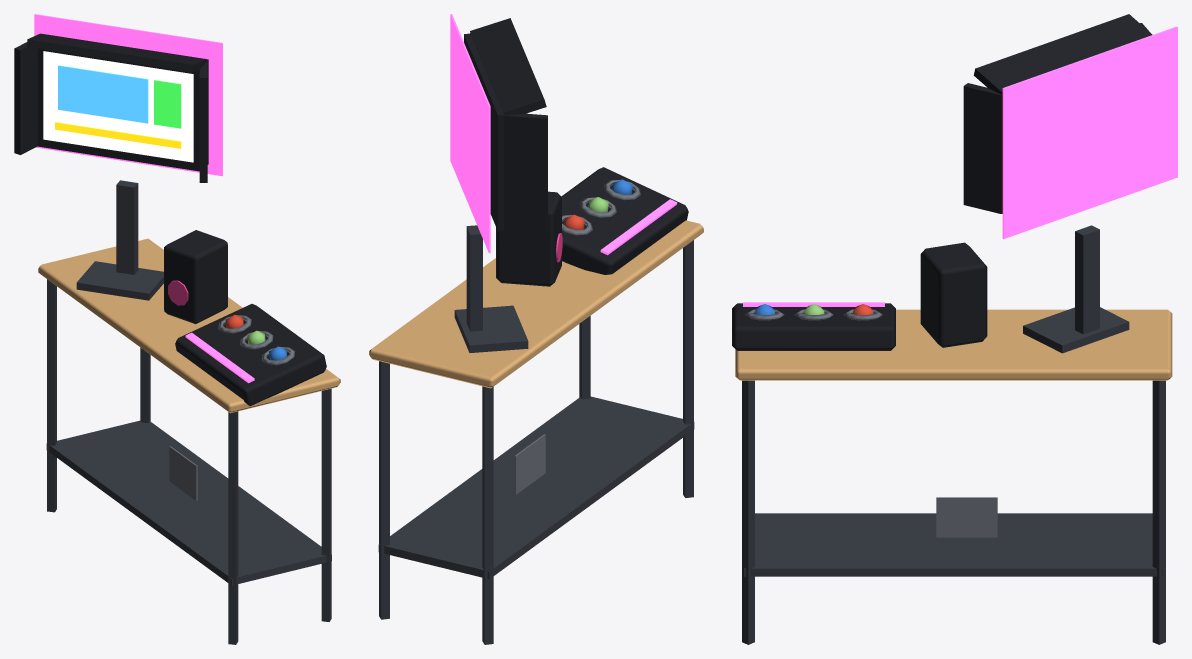
Rendered from station_processing_ausstattung_3_3.glb.
3 renders of one model, left to right at view 1: azimuth 30°, elevation 25°; view 2: azimuth 150°, elevation 25°; view 3: azimuth 270°, elevation 25°, orthographic. The views are drawn at different scales.
Parts seen in each view (by area): view 1: station_processing_ausstattung_3_3; view 2: station_processing_ausstattung_3_3; view 3: station_processing_ausstattung_3_3.
Part boxes in pixels (x1,y1,x2,y2): station_processing_ausstattung_3_3: (14,14,340,644); station_processing_ausstattung_3_3: (369,14,703,644); station_processing_ausstattung_3_3: (732,14,1177,644).
Size of the model in its own units: 0.4453 by 1.41 by 1.02.
